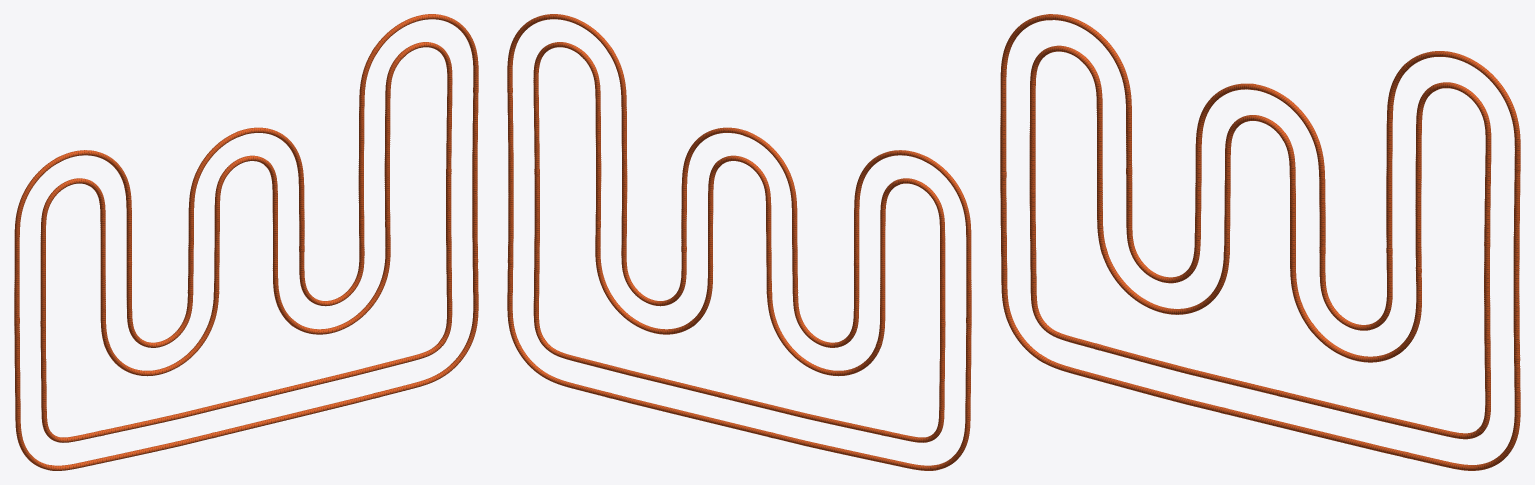
Rendered from ducts.obj.
The picture shows the model from 3 angles, left to right: view 1: azimuth 30°, elevation 25°; view 2: azimuth 150°, elevation 25°; view 3: azimuth 330°, elevation 25°; orthographic projection. The views are drawn at different scales.
Bounding box in the file's own units: 21.63 × 16.57 × 0.2325.
1 material, 1 textured.
